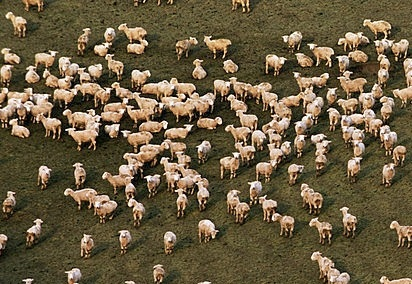sheep: (121, 20, 158, 48), (308, 217, 340, 247), (66, 187, 104, 209), (336, 205, 362, 235), (265, 142, 295, 168), (340, 73, 371, 98), (362, 17, 398, 38), (230, 141, 259, 167), (39, 112, 68, 138), (202, 34, 236, 56), (128, 199, 151, 231), (194, 179, 214, 214), (273, 209, 298, 236), (308, 40, 337, 63), (118, 131, 155, 149), (176, 34, 200, 61), (166, 187, 189, 215), (78, 233, 102, 259), (7, 10, 29, 38), (293, 131, 314, 160), (249, 123, 269, 153), (226, 93, 250, 118), (86, 189, 111, 213), (110, 83, 140, 103), (308, 248, 334, 271), (73, 80, 101, 101), (73, 161, 93, 190), (289, 70, 314, 93), (281, 30, 307, 52), (300, 184, 322, 210), (25, 219, 46, 246), (8, 119, 35, 140), (125, 102, 153, 122), (388, 218, 412, 241), (219, 151, 242, 175), (336, 117, 355, 146), (161, 231, 186, 253), (225, 123, 252, 143), (197, 218, 220, 241), (246, 175, 268, 199), (224, 187, 246, 211), (304, 95, 329, 116), (144, 262, 169, 283), (105, 53, 126, 78), (122, 174, 140, 203), (344, 153, 364, 179), (117, 227, 136, 254), (260, 53, 286, 72), (104, 172, 130, 191), (142, 173, 161, 199), (131, 91, 158, 109), (50, 85, 77, 103), (342, 30, 365, 51), (169, 122, 192, 143), (171, 75, 195, 95), (312, 151, 329, 179), (141, 121, 175, 135), (96, 201, 121, 220), (378, 161, 398, 184), (188, 58, 208, 81), (256, 194, 280, 213), (233, 202, 257, 221), (326, 107, 344, 132), (235, 111, 260, 129), (1, 191, 17, 219), (119, 162, 141, 182), (374, 38, 397, 57), (142, 82, 169, 98), (54, 73, 79, 90), (334, 51, 355, 71), (37, 69, 57, 90), (214, 79, 236, 98), (37, 166, 53, 192), (189, 97, 213, 114), (134, 68, 153, 89), (125, 42, 158, 54), (166, 139, 188, 157), (174, 160, 197, 177), (101, 24, 118, 47), (292, 51, 316, 67), (332, 268, 356, 284), (391, 143, 410, 163), (350, 141, 369, 161), (21, 66, 41, 85), (394, 88, 412, 109), (12, 99, 29, 121), (7, 90, 30, 106), (310, 67, 329, 86), (102, 101, 126, 116), (159, 155, 176, 176), (64, 266, 85, 283), (218, 57, 240, 73), (168, 101, 190, 117), (75, 29, 89, 54), (366, 78, 385, 96), (392, 38, 409, 58), (381, 97, 398, 117), (98, 110, 124, 123), (377, 51, 393, 72), (361, 106, 377, 127), (370, 115, 384, 139), (256, 161, 277, 177), (93, 41, 114, 57), (360, 92, 379, 109), (301, 111, 318, 130), (1, 63, 16, 84), (384, 128, 398, 150), (324, 87, 341, 105), (374, 67, 393, 83), (1, 48, 21, 63), (61, 58, 78, 75), (88, 61, 104, 79), (277, 141, 296, 154), (350, 125, 365, 141), (293, 121, 310, 133), (380, 125, 392, 139)
